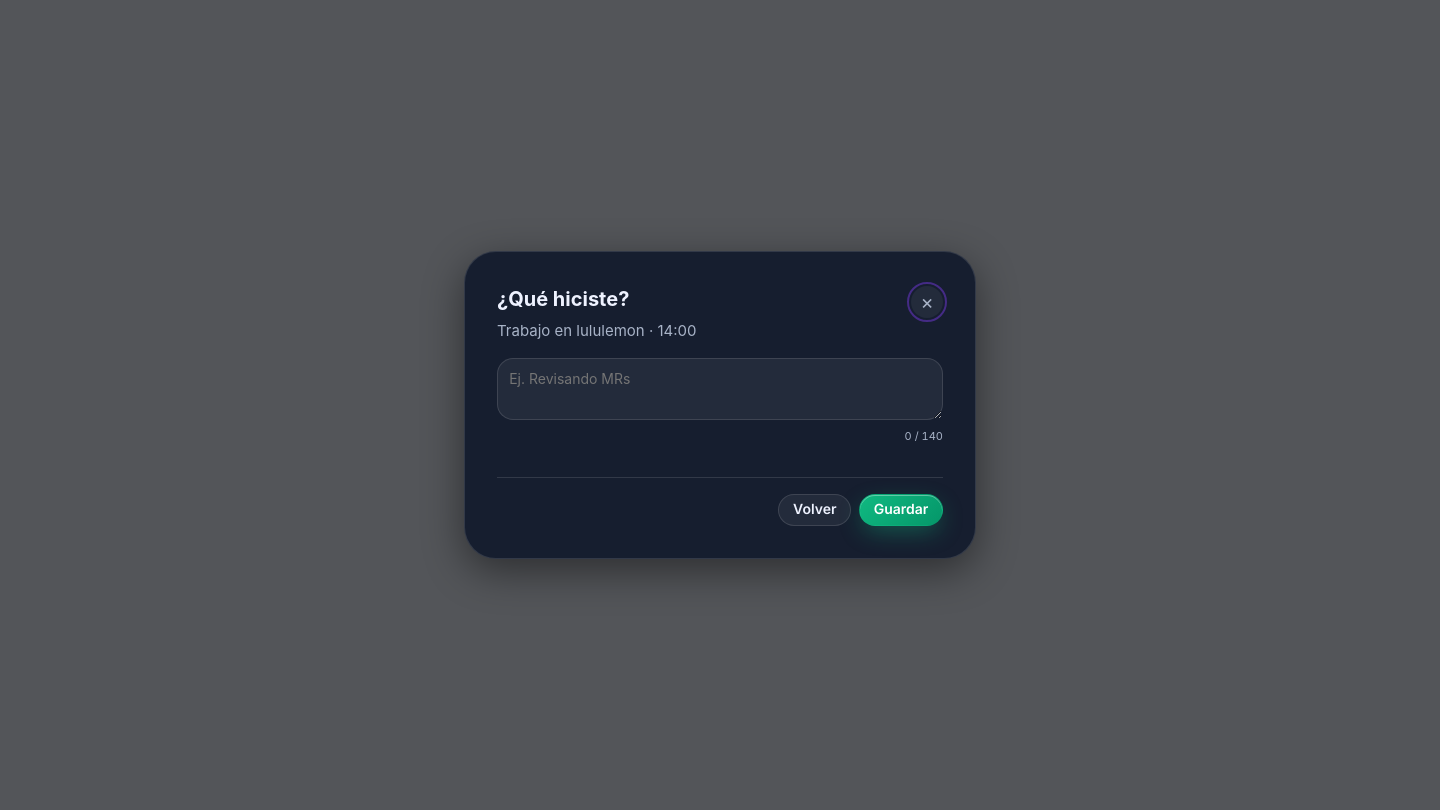
Test: VidaNoteSheet › criterio 533 — el contador dice cuánto cabe
Expected: the text "0 / 140" is shown, [905,429,943,443]
In the text box named "¿Qué hiciste?": (720,389) [497,358,943,420], type "Revisando MRs"
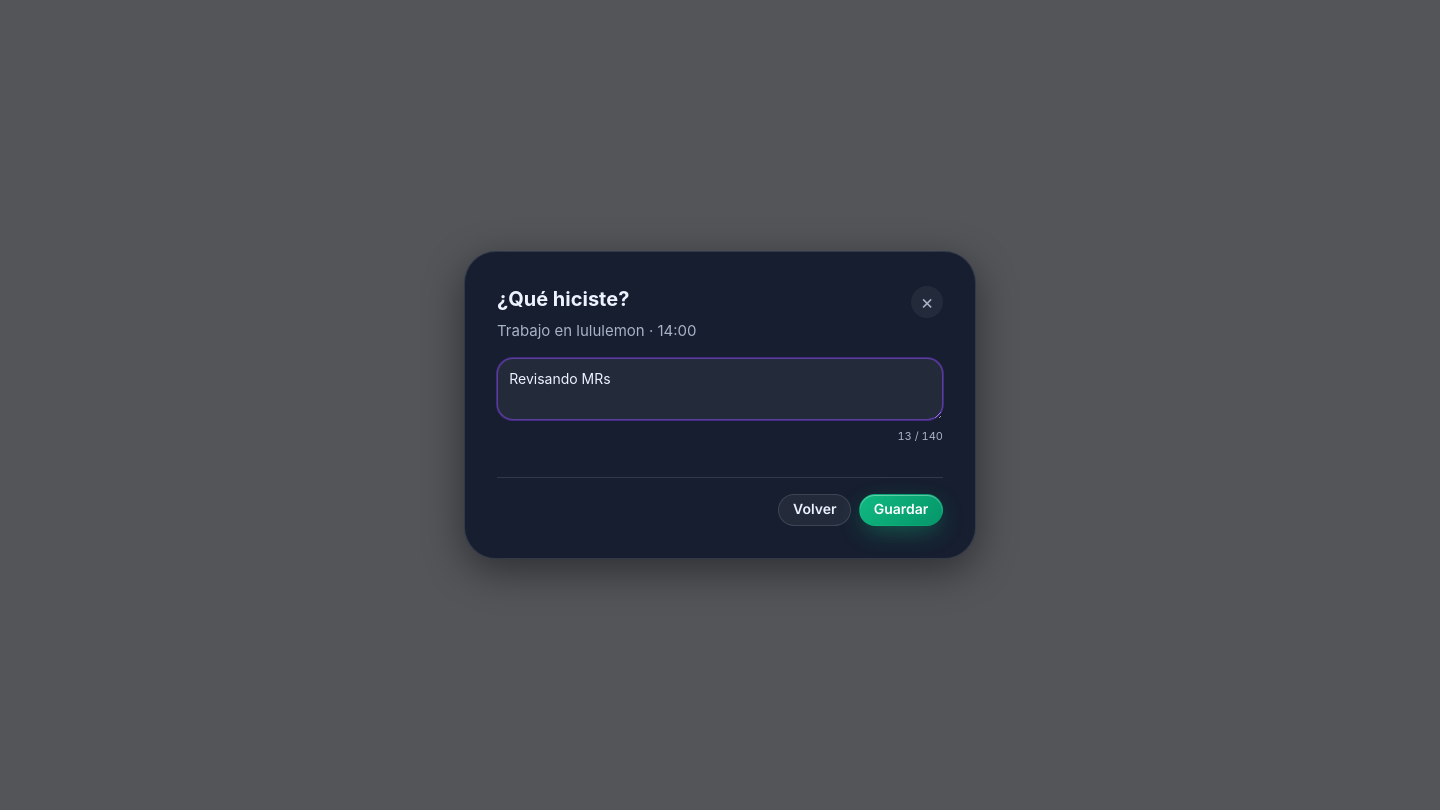
Result: the text "13 / 140" is shown at [898,429,943,443]
